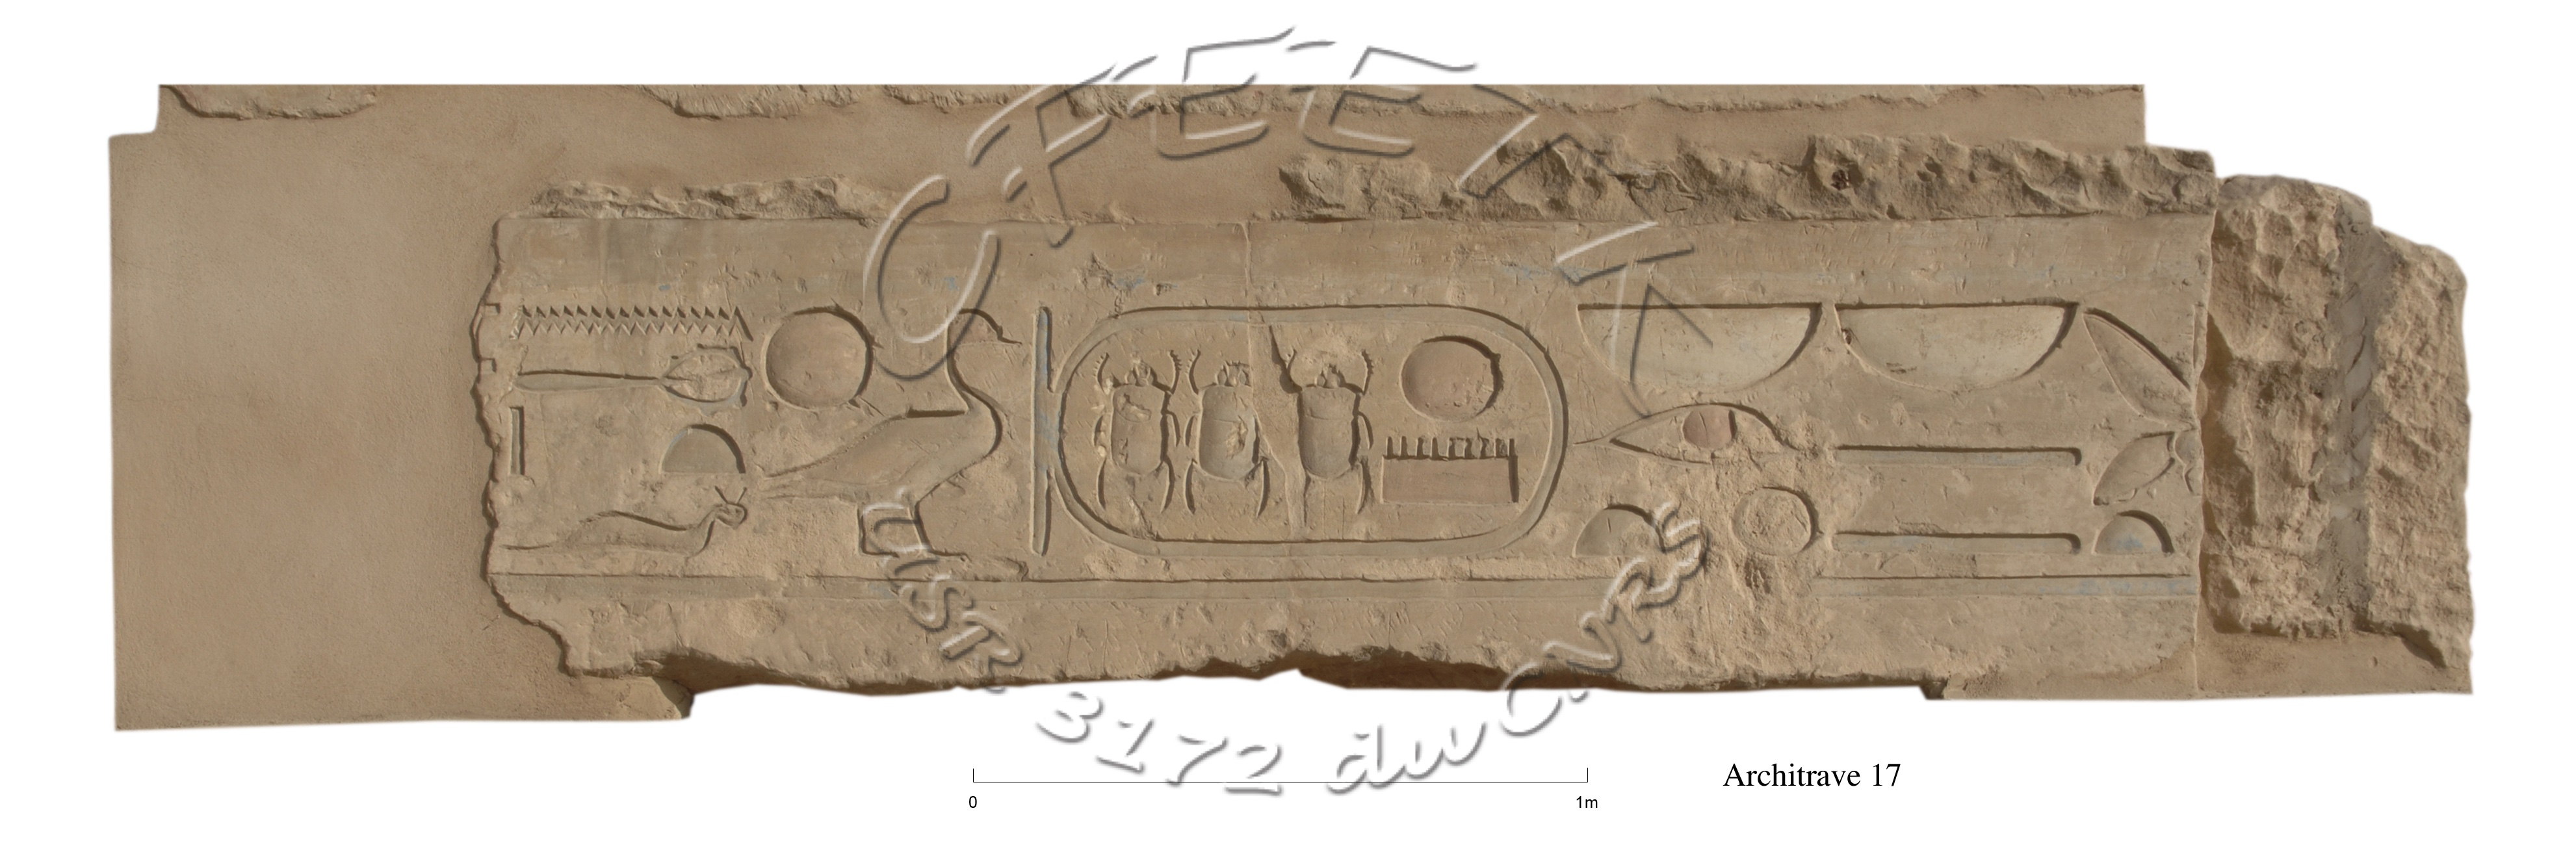D4: (1576, 396, 1832, 484)
N35: (504, 281, 756, 360)
V30: (1825, 276, 2098, 417), (1554, 281, 1832, 405)
